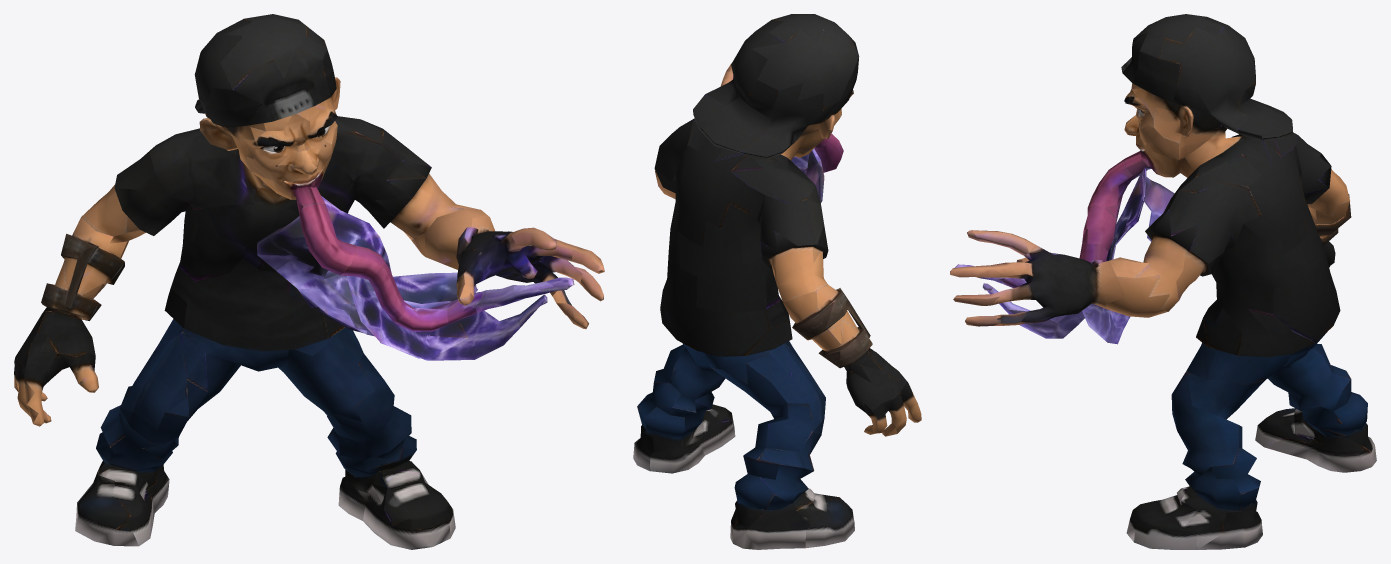
The model's file is ไอ้โต้ไอ้เดนคน.glb.
The picture shows the model from 3 angles, left to right: view 1: azimuth 30°, elevation 25°; view 2: azimuth 150°, elevation 25°; view 3: azimuth 270°, elevation 25°; orthographic projection. The views are drawn at different scales.
Visible parts, largest first — view 1: mesh_node; view 2: mesh_node; view 3: mesh_node.
Boxes of the visible parts, x1,y1,x2,y2 form: mesh_node: (14,14,604,549); mesh_node: (633,14,921,549); mesh_node: (950,14,1376,549).
Size of the model in its own units: 0.7949 by 1 by 0.8457.
1 material, 1 textured.
